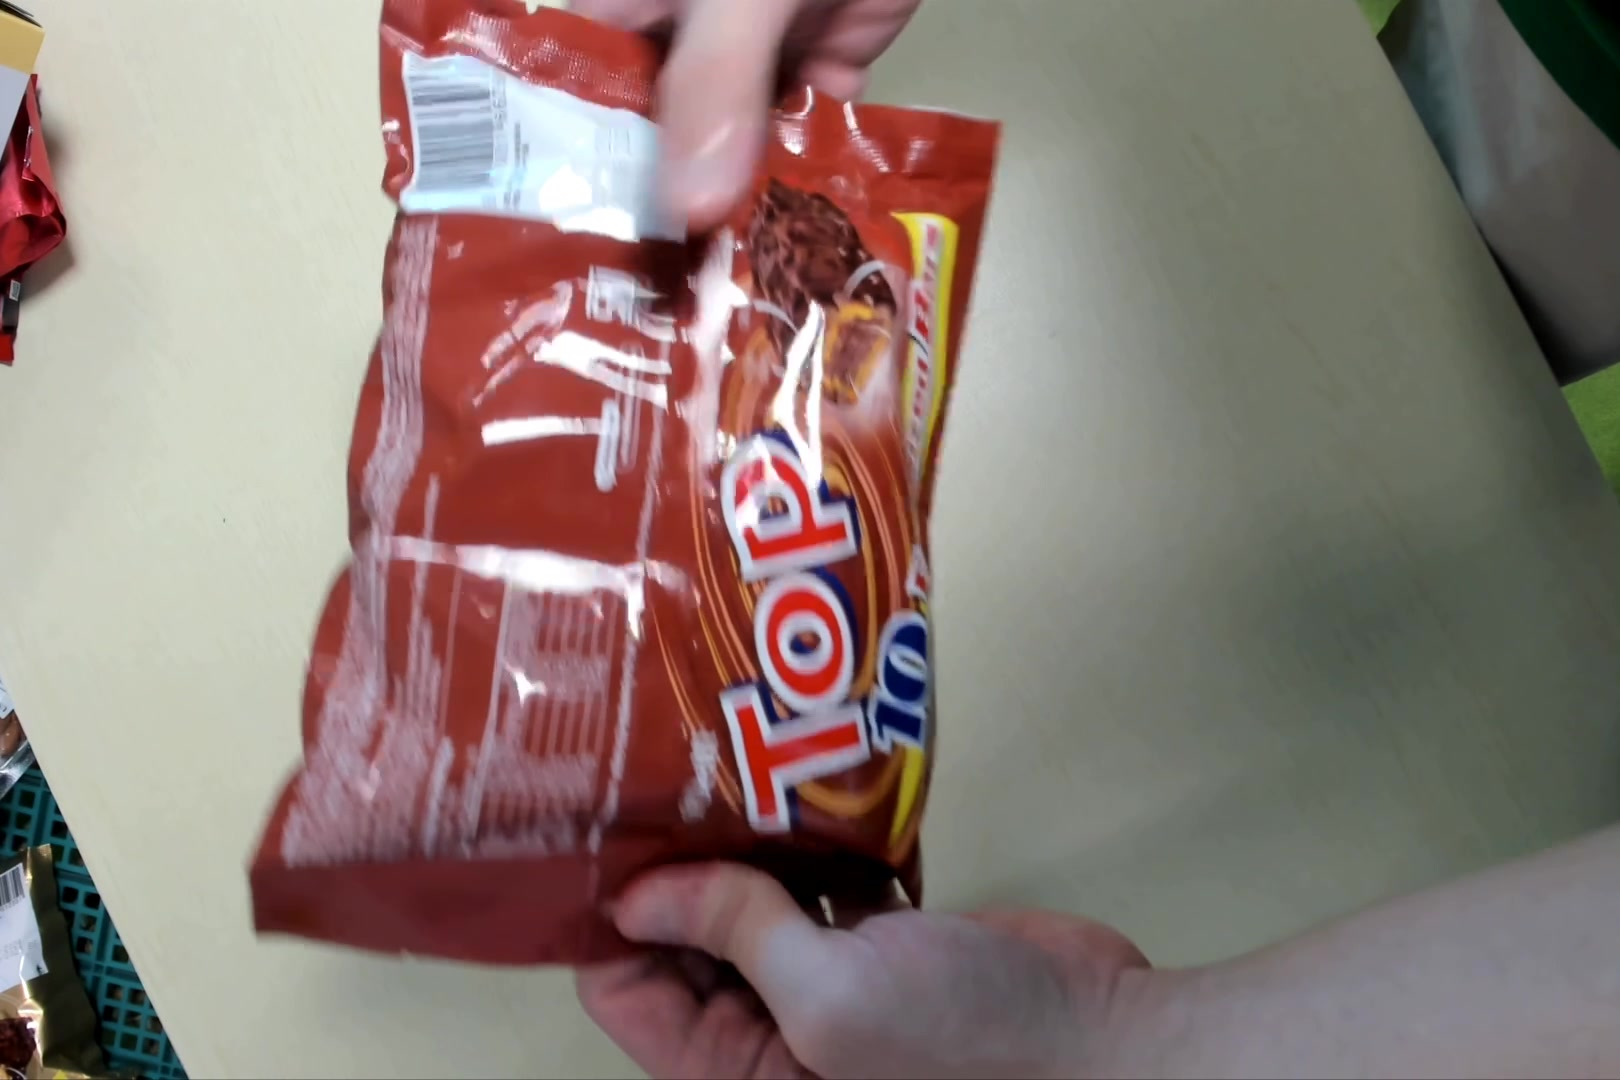SweetsChocolatesOthers_100-199g_NonHalal_NonHealthy: (266, 1, 1000, 996)
